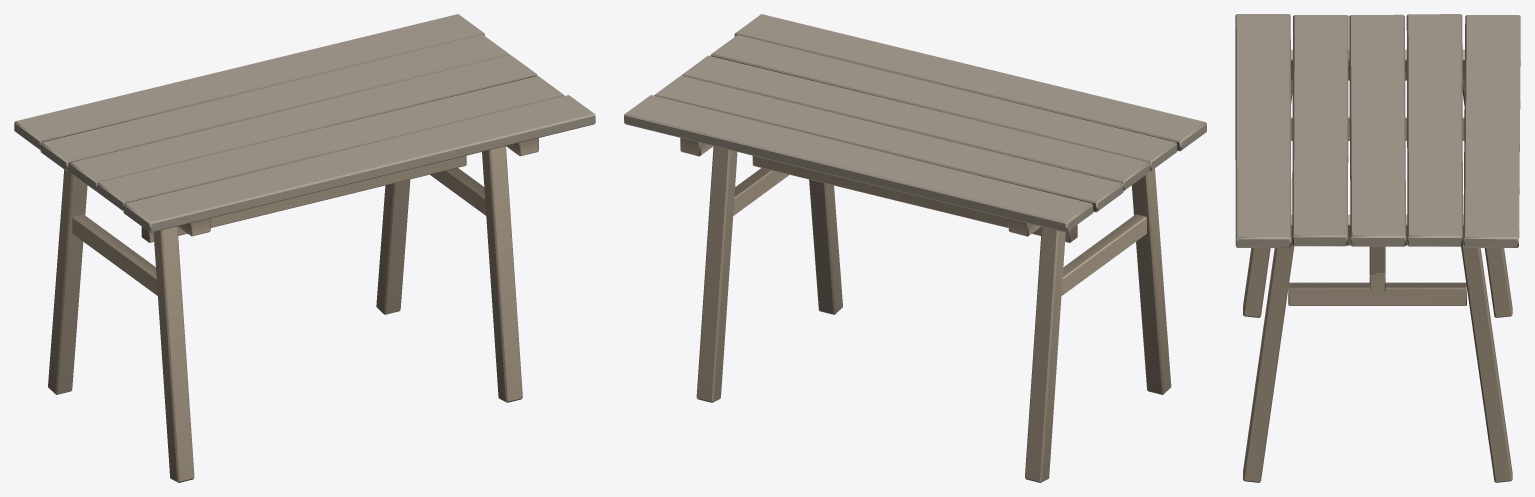
Rendered from camp_table.glb.
3 views of the same model, side by side, from view 1: azimuth 30°, elevation 25°; view 2: azimuth 150°, elevation 25°; view 3: azimuth 270°, elevation 25° (orthographic). The views are drawn at different scales.
Parts seen in each view (by area): view 1: static; view 2: static; view 3: static.
Part boxes in pixels (box(x1,y1,x2,y2)): static: box(14, 14, 595, 482); static: box(624, 14, 1206, 482); static: box(1235, 14, 1520, 482).
Size of the model in its own units: 1.31 by 0.7624 by 0.7028.
